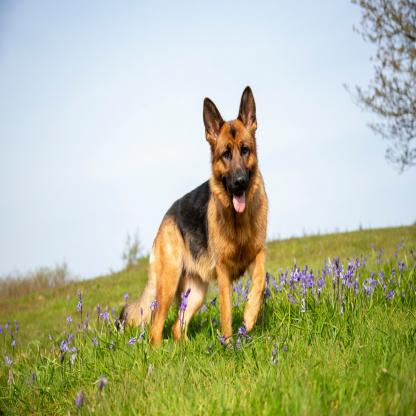dog: (115, 82, 269, 348)
